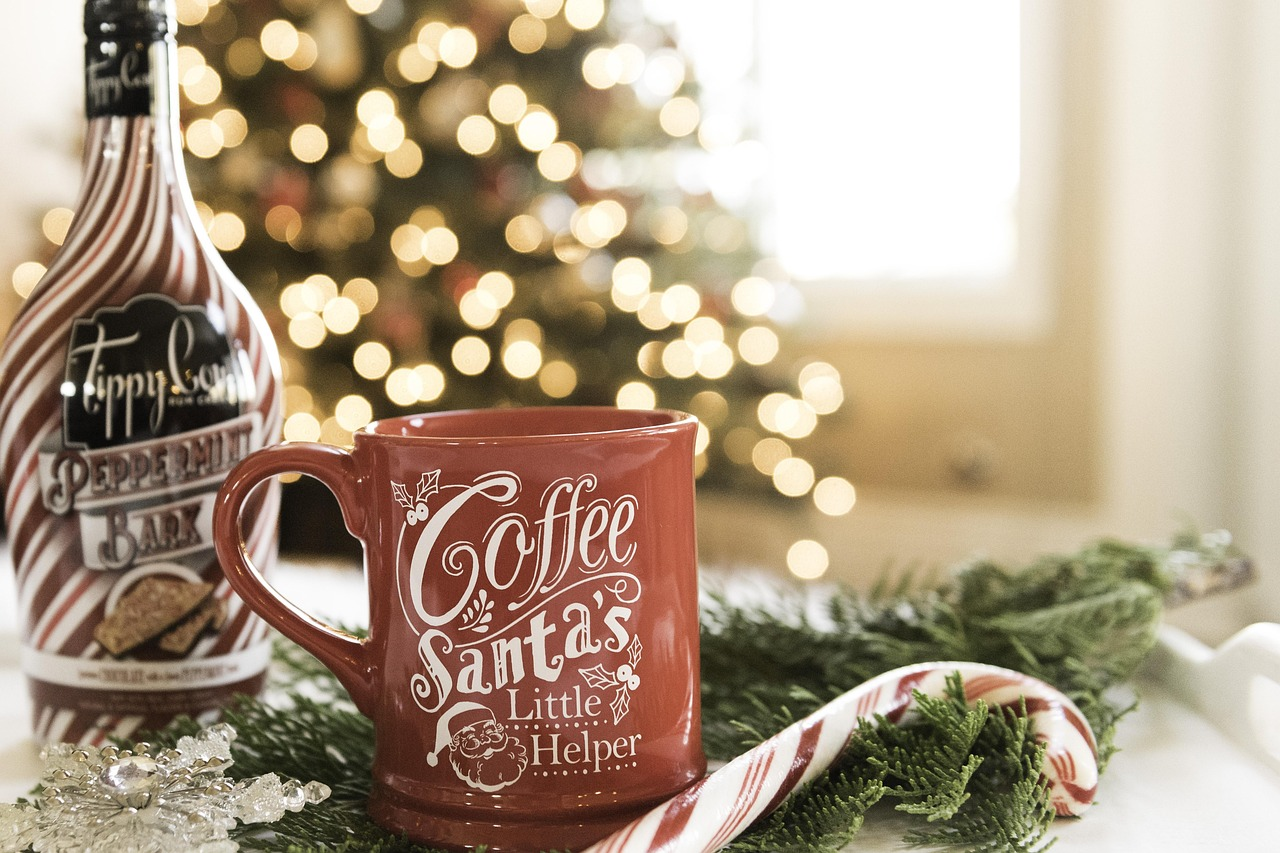mug: (205, 384, 712, 853)
